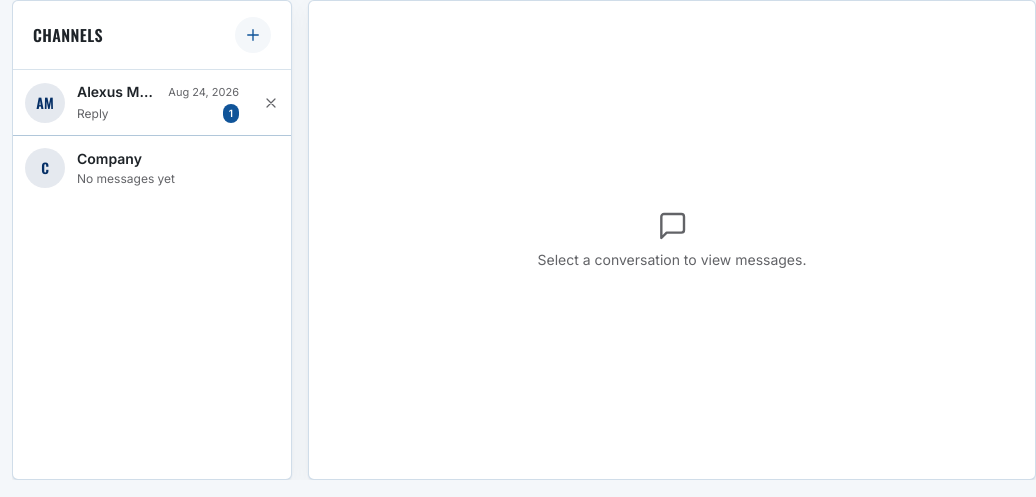
TeamMessages › attributes your own messages to you, not to 'Employee'
This screenshot has width=1036, height=497.
Click the button with aria-label "Open conversation with Alexus Marshall" at (132, 102), box [13, 70, 251, 135]
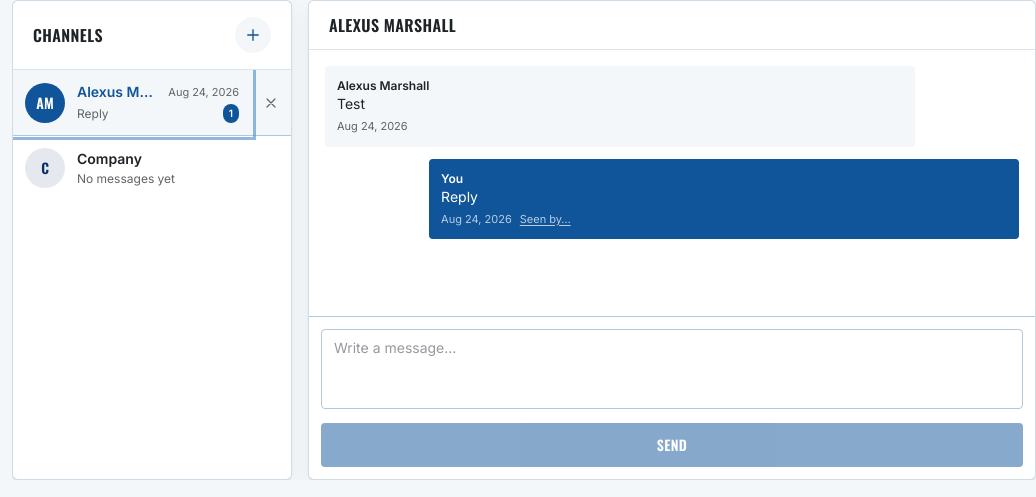
Now the text "You" is shown, box [441, 170, 463, 186]
